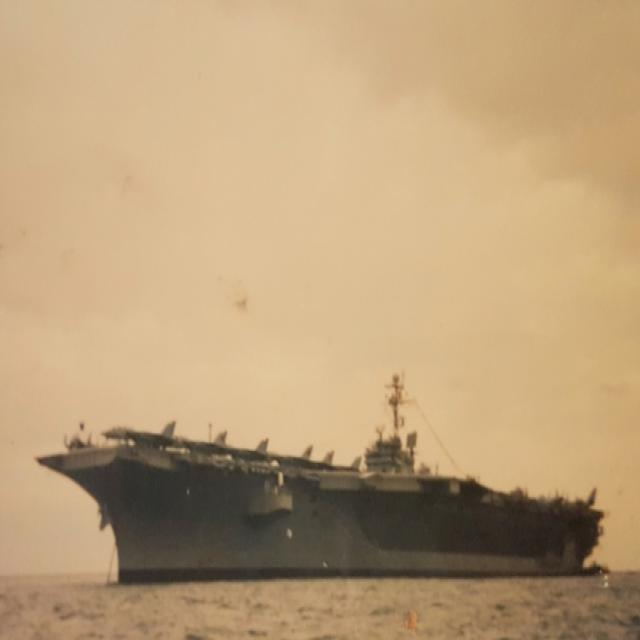Portanaves: (29, 362, 613, 594)
